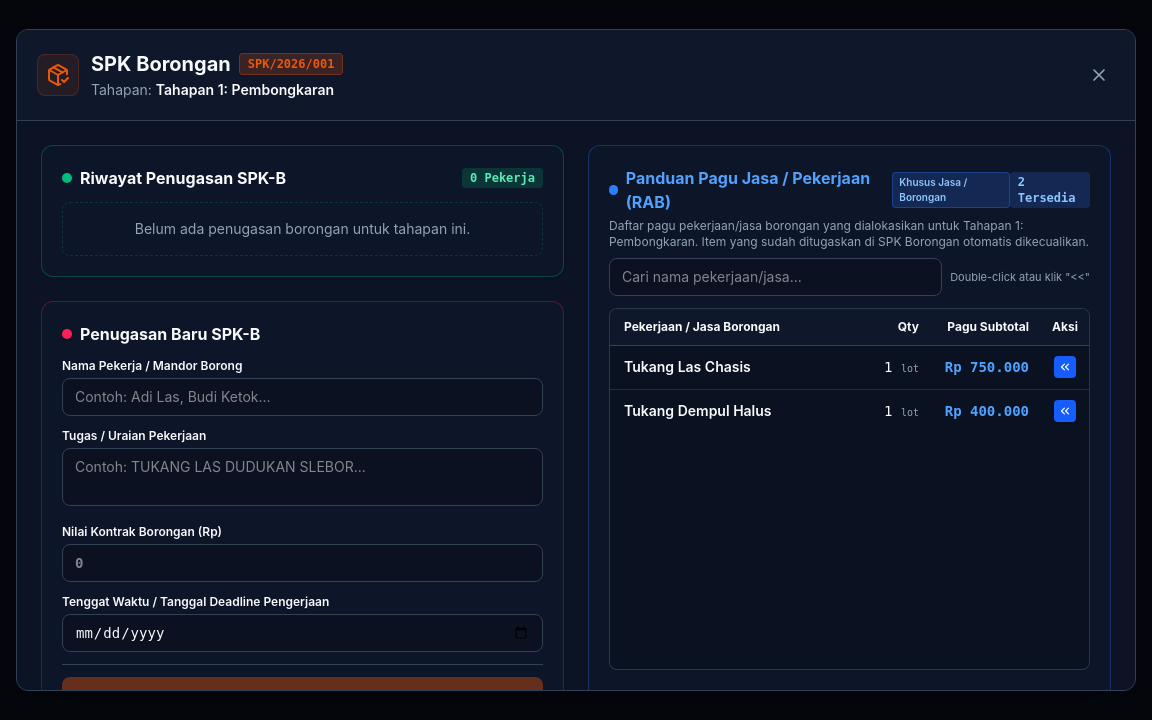
Component: SpkBoronganPanel (Strict LABOR Filter) › filters labor items by text search input
expect the text "Tukang Las Chasis" is shown: met, box [624,357,751,377]
expect the text "Tukang Dempul Halus" is shown: met, box [624,401,772,421]
Step 1. Type "Chasis" into the field with placeholder "Cari nama pekerjaan/jasa..." → (776, 277), box [609,258,942,296]
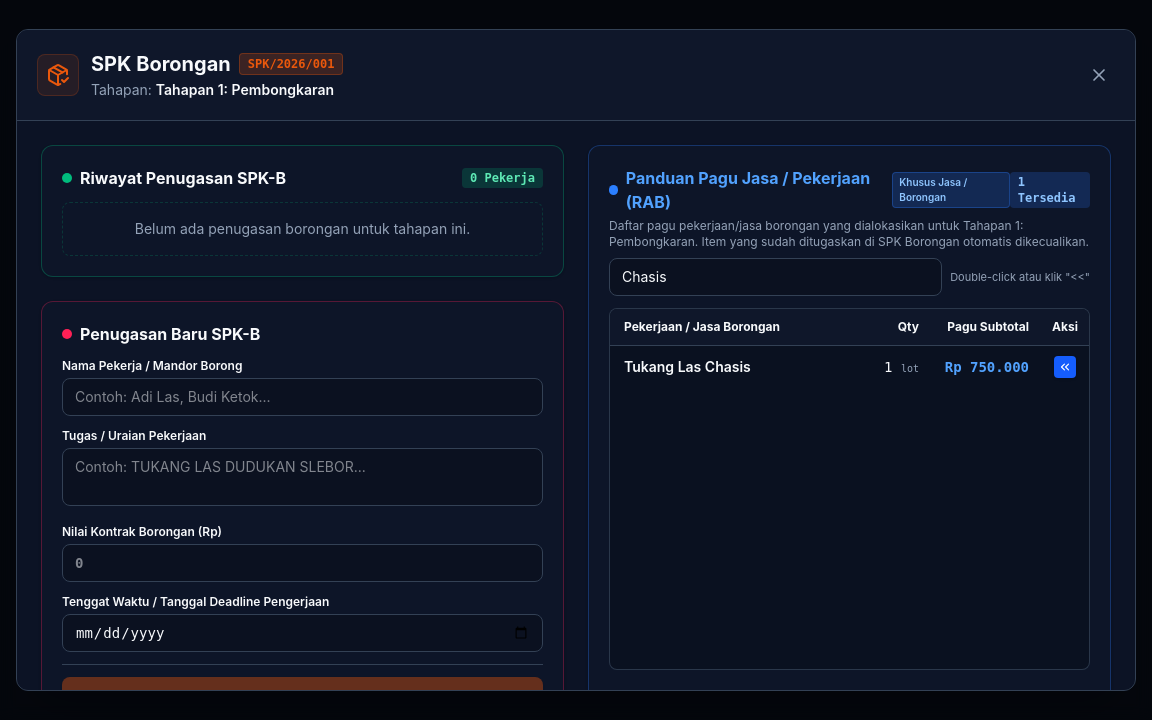
expect the text "Tukang Las Chasis" is shown: met, box [624,357,751,377]
expect the text "Tukang Dempul Halus" is gone: met
expect the text "1 Tersedia" is shown: met, box [1010,172,1090,208]
